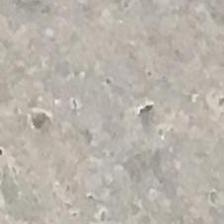Non_Crack: (37, 22, 224, 224)
